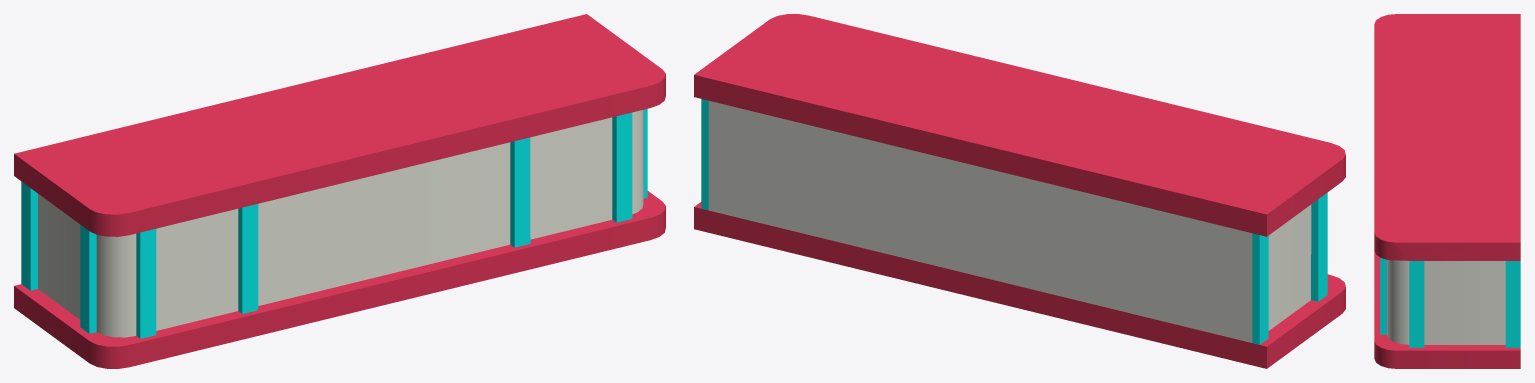
File: TableB8_geo.fbx
3 views of the same model, side by side, from view 1: azimuth 30°, elevation 25°; view 2: azimuth 150°, elevation 25°; view 3: azimuth 270°, elevation 25° (orthographic). The views are drawn at different scales.
Parts seen in each view (by area): view 1: TableB8_geo; view 2: TableB8_geo; view 3: TableB8_geo.
Boxes of the visible parts, x1=… form: TableB8_geo: x1=14, y1=14, x2=665, y2=368; TableB8_geo: x1=694, y1=14, x2=1345, y2=368; TableB8_geo: x1=1374, y1=14, x2=1520, y2=368.
Bounding box in the file's own units: 2.64 × 0.7143 × 0.6803.
